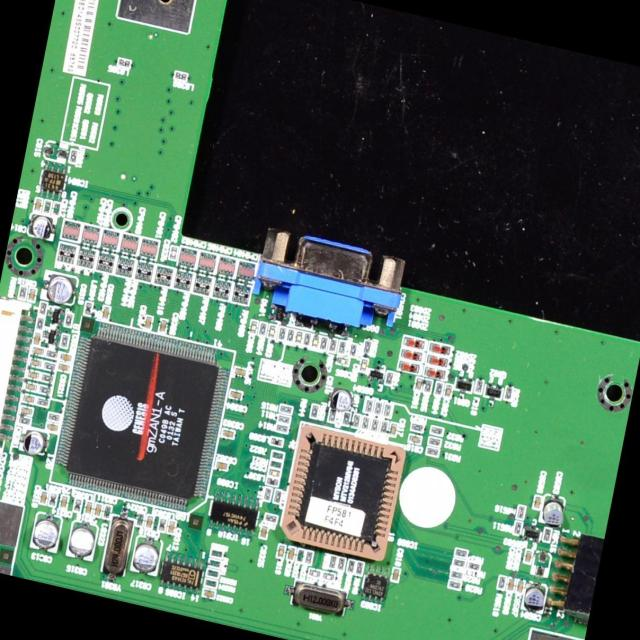Capacitor: (28, 513, 62, 554), (66, 524, 97, 560), (26, 212, 59, 245), (133, 538, 162, 574), (540, 495, 566, 529), (524, 584, 548, 615), (156, 318, 172, 336), (306, 566, 324, 581), (200, 588, 218, 603), (25, 368, 43, 383), (521, 549, 535, 568), (56, 360, 72, 376), (265, 465, 282, 480), (28, 356, 45, 370), (213, 459, 230, 473), (29, 346, 47, 359), (322, 569, 337, 584), (26, 287, 38, 305), (32, 330, 44, 348), (531, 494, 543, 512), (389, 567, 402, 583), (275, 543, 287, 560), (142, 314, 154, 331), (285, 544, 296, 562), (295, 331, 306, 349), (505, 576, 516, 594), (310, 334, 322, 350), (221, 429, 238, 440), (38, 490, 48, 508), (22, 393, 37, 405), (295, 548, 306, 564), (52, 202, 63, 218), (33, 197, 44, 213), (267, 324, 278, 340), (335, 356, 351, 367), (24, 382, 40, 393), (93, 501, 103, 518), (166, 521, 176, 538), (102, 306, 112, 323), (234, 366, 248, 378), (228, 390, 242, 402), (60, 353, 74, 365), (250, 320, 261, 335), (20, 404, 35, 415), (259, 526, 270, 541), (58, 495, 68, 511), (443, 384, 453, 400), (45, 422, 58, 434), (83, 500, 92, 517), (359, 359, 369, 374), (516, 580, 525, 596), (144, 516, 154, 530), (416, 378, 424, 393), (389, 424, 399, 436), (408, 436, 422, 444)
IC: (49, 315, 238, 517), (278, 422, 408, 562), (204, 488, 264, 542), (158, 550, 207, 600), (34, 158, 70, 202)
Resistor Network: (380, 400, 394, 420), (423, 380, 437, 398), (372, 398, 384, 418), (452, 558, 469, 572), (363, 336, 374, 356), (380, 417, 391, 436), (516, 504, 528, 521), (45, 349, 60, 362), (318, 336, 330, 352), (16, 284, 28, 300), (46, 412, 62, 424), (455, 548, 471, 560), (466, 562, 482, 574), (363, 398, 373, 417), (59, 333, 70, 350), (513, 520, 524, 537), (36, 397, 50, 410), (370, 416, 380, 434), (277, 414, 292, 426), (411, 423, 426, 434), (342, 411, 353, 426), (361, 416, 372, 431), (427, 437, 442, 448), (275, 424, 290, 435), (385, 368, 395, 384), (309, 403, 319, 419), (426, 445, 439, 457), (348, 344, 359, 358), (328, 409, 339, 423), (38, 385, 52, 396), (38, 300, 48, 315), (430, 426, 442, 438), (42, 371, 53, 384), (64, 312, 74, 326), (271, 450, 285, 460), (352, 414, 361, 429), (498, 575, 507, 590), (436, 383, 445, 397), (37, 315, 46, 329), (43, 363, 57, 372), (19, 417, 31, 427), (279, 405, 292, 413), (338, 341, 347, 352), (288, 328, 295, 342), (280, 328, 286, 340), (330, 338, 336, 349)
